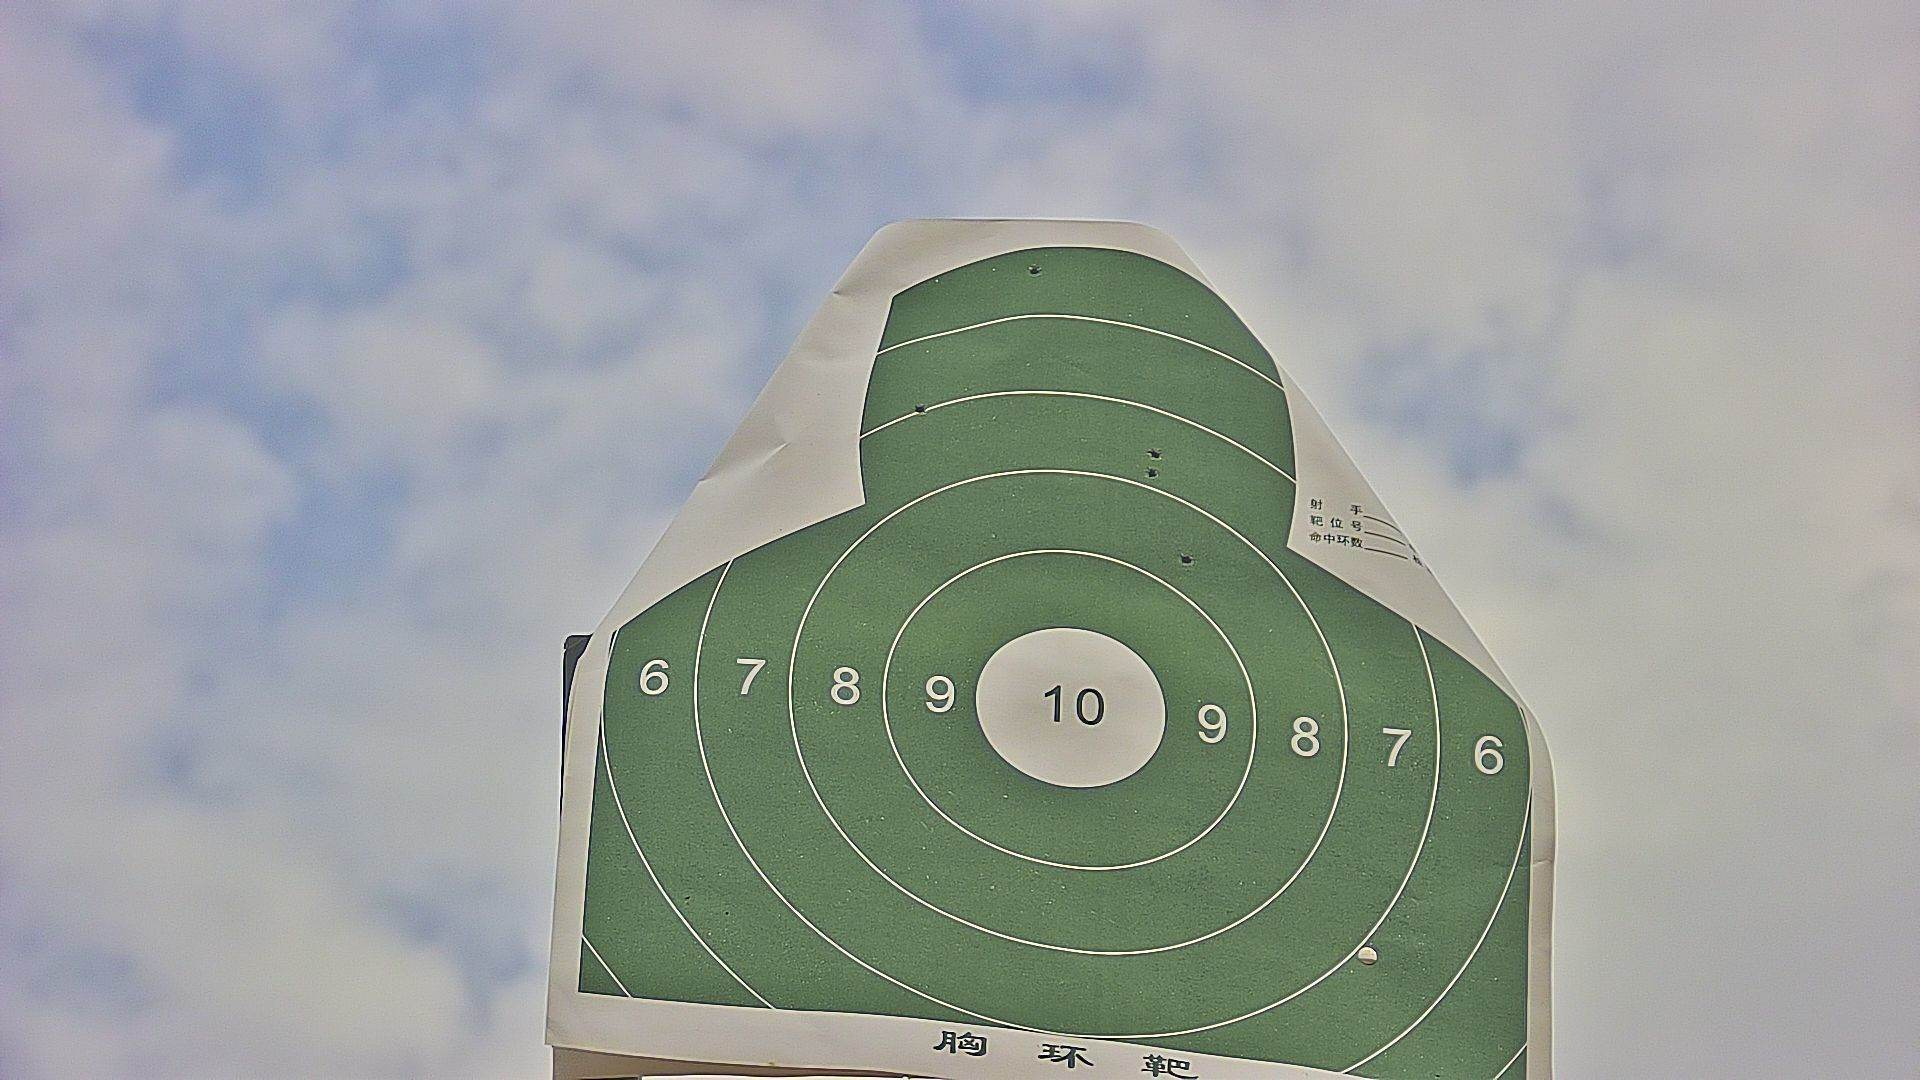hole: (1029, 262, 1040, 276), (1147, 447, 1160, 459), (1146, 465, 1158, 477), (1180, 553, 1191, 566), (915, 404, 924, 414)
kernel: (1067, 703, 1071, 705)
target: (578, 251, 1532, 1080)
ten: (972, 622, 1166, 791)
